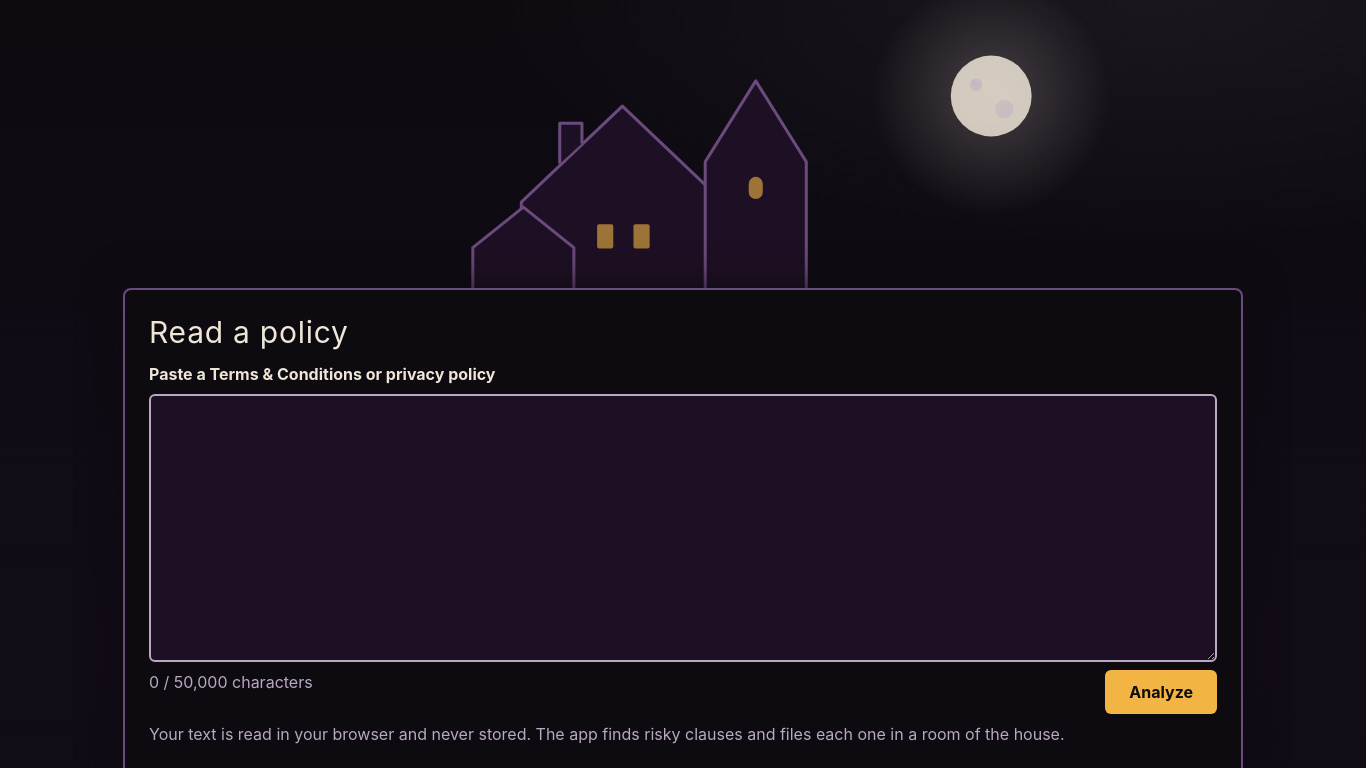
Test case: HauntedApp edge paths › opens the house for the same text when the analyzer accepts it
This screenshot has width=1366, height=768.
Type "We may sell your data." into the text box labelled "Paste a Terms & Conditions or privacy policy". click: (683, 528)
box: [149, 394, 1217, 662]
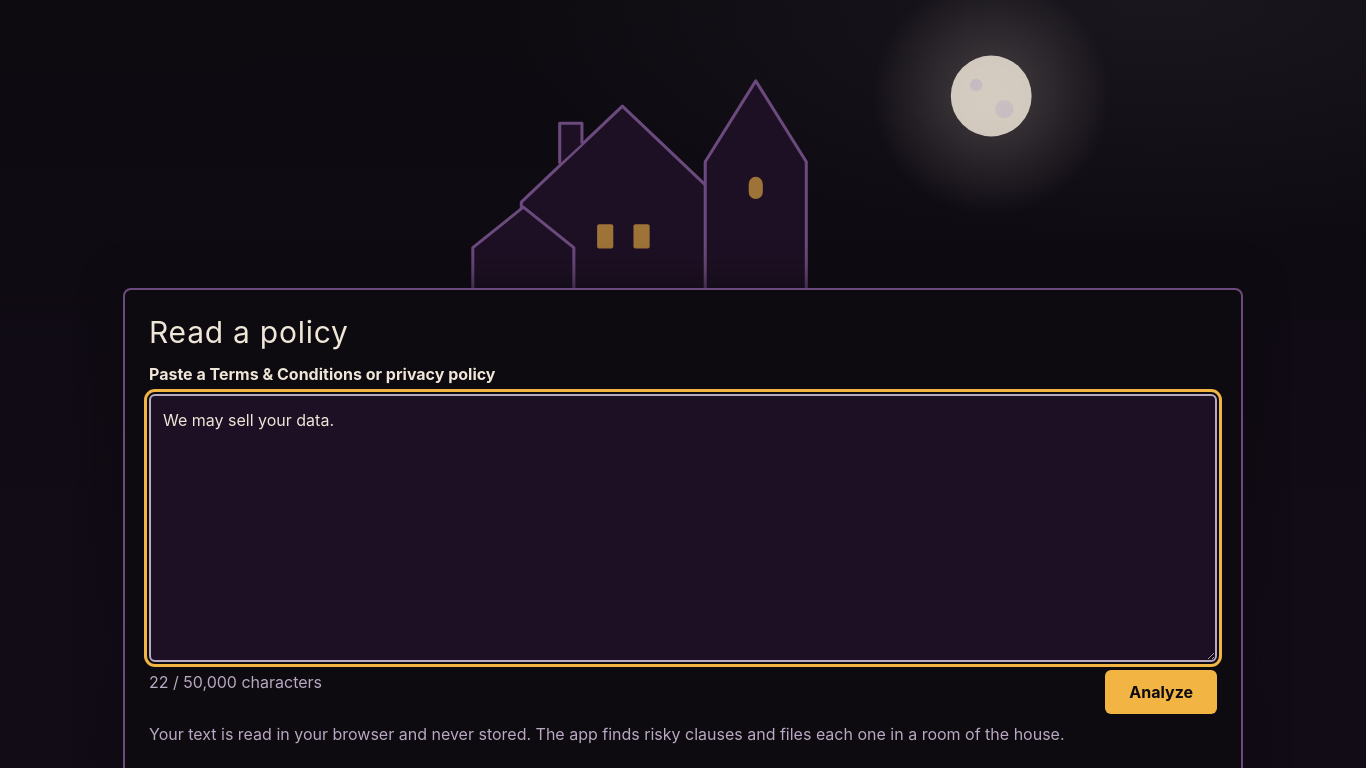
Click the button "Analyze". click: click(1161, 692)
box: [1105, 670, 1217, 714]
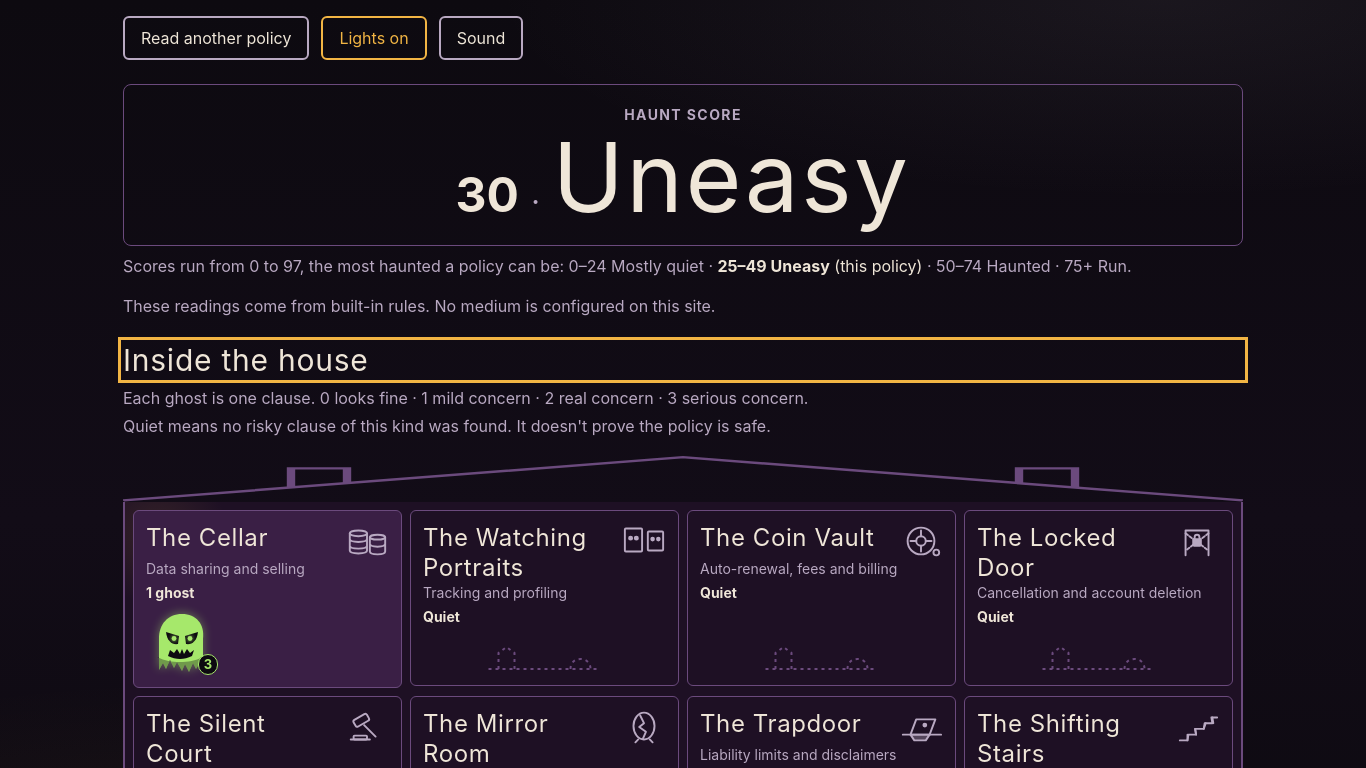
Check: the heading "Inside the house" is shown, box [123, 342, 368, 378]
